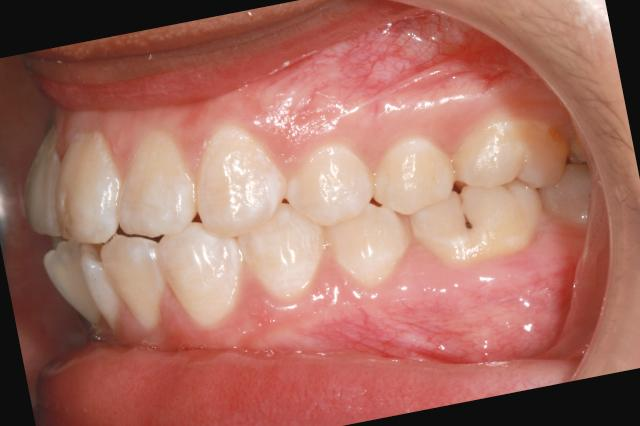canine class I: (135, 103, 341, 340)
molar class III 1/2: (392, 98, 594, 283)
